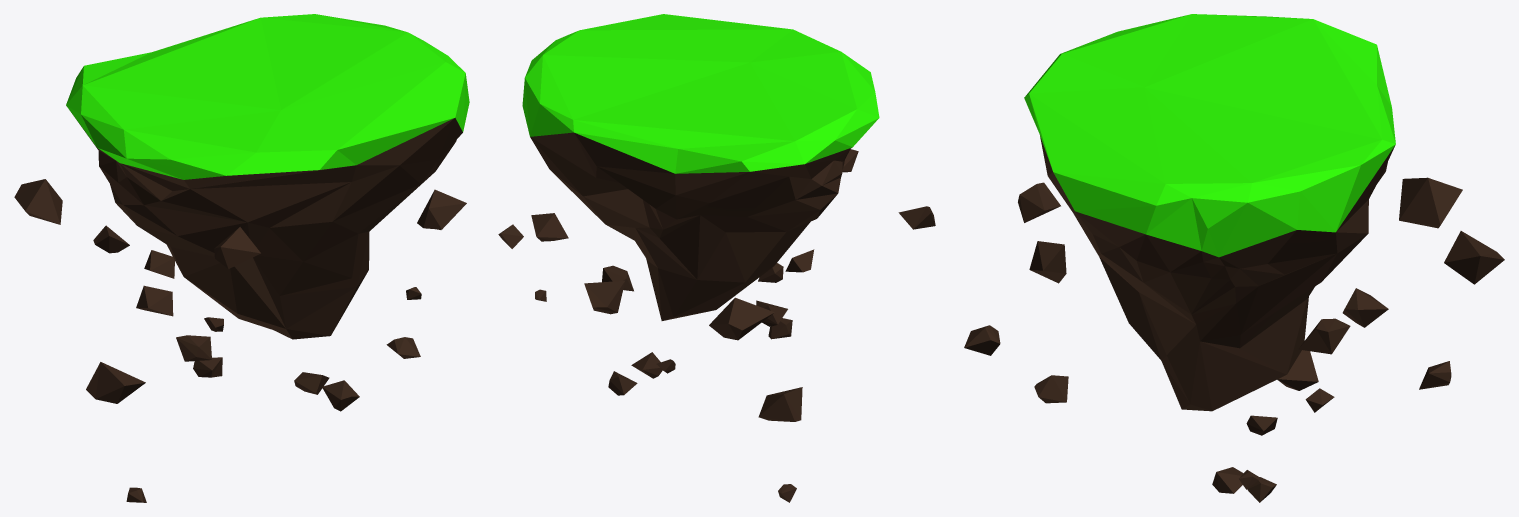
Rendered from Island.fbx.
The picture shows the model from 3 angles, left to right: view 1: azimuth 30°, elevation 25°; view 2: azimuth 150°, elevation 25°; view 3: azimuth 270°, elevation 25°; orthographic projection. The views are drawn at different scales.
Visible parts, largest first — view 1: Islan_LP, FloatingRocks; view 2: Islan_LP, FloatingRocks; view 3: Islan_LP, FloatingRocks.
Boxes of the visible parts, left/top/right/bottom form: Islan_LP: left=66, top=14, right=469, bottom=339; FloatingRocks: left=14, top=179, right=466, bottom=502; Islan_LP: left=522, top=14, right=879, bottom=320; FloatingRocks: left=498, top=149, right=935, bottom=502; Islan_LP: left=1024, top=14, right=1395, bottom=411; FloatingRocks: left=964, top=177, right=1504, bottom=502.
Bounding box in the file's own units: 729 × 777 × 825.
